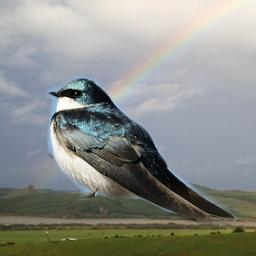Swallow: (46, 76, 236, 225)
